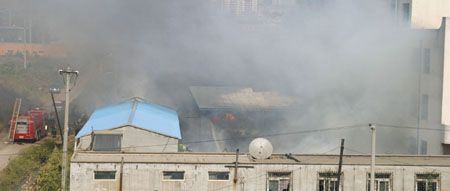smoke: (126, 13, 414, 114)
